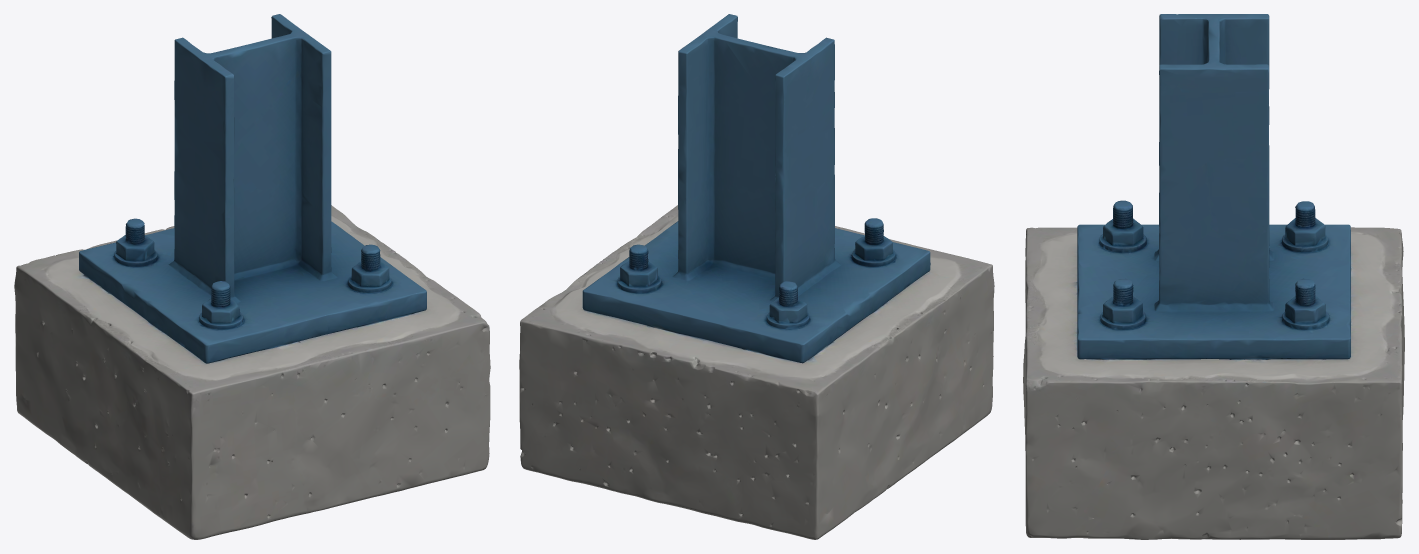
The model's file is base-plate.glb.
3 views of the same model, side by side, from view 1: azimuth 30°, elevation 25°; view 2: azimuth 150°, elevation 25°; view 3: azimuth 270°, elevation 25° (orthographic). The views are drawn at different scales.
Visible parts, largest first — view 1: tripo_node_4cc3e808-0c35-4812-ac7a-2980093d6095; view 2: tripo_node_4cc3e808-0c35-4812-ac7a-2980093d6095; view 3: tripo_node_4cc3e808-0c35-4812-ac7a-2980093d6095.
Boxes of the visible parts, x1,y1,x2,y2 form: tripo_node_4cc3e808-0c35-4812-ac7a-2980093d6095: (14, 14, 490, 539); tripo_node_4cc3e808-0c35-4812-ac7a-2980093d6095: (519, 14, 994, 539); tripo_node_4cc3e808-0c35-4812-ac7a-2980093d6095: (1023, 14, 1404, 539).
Size of the model in its own units: 0.7953 by 1 by 0.8154.
1 material, 1 textured.
